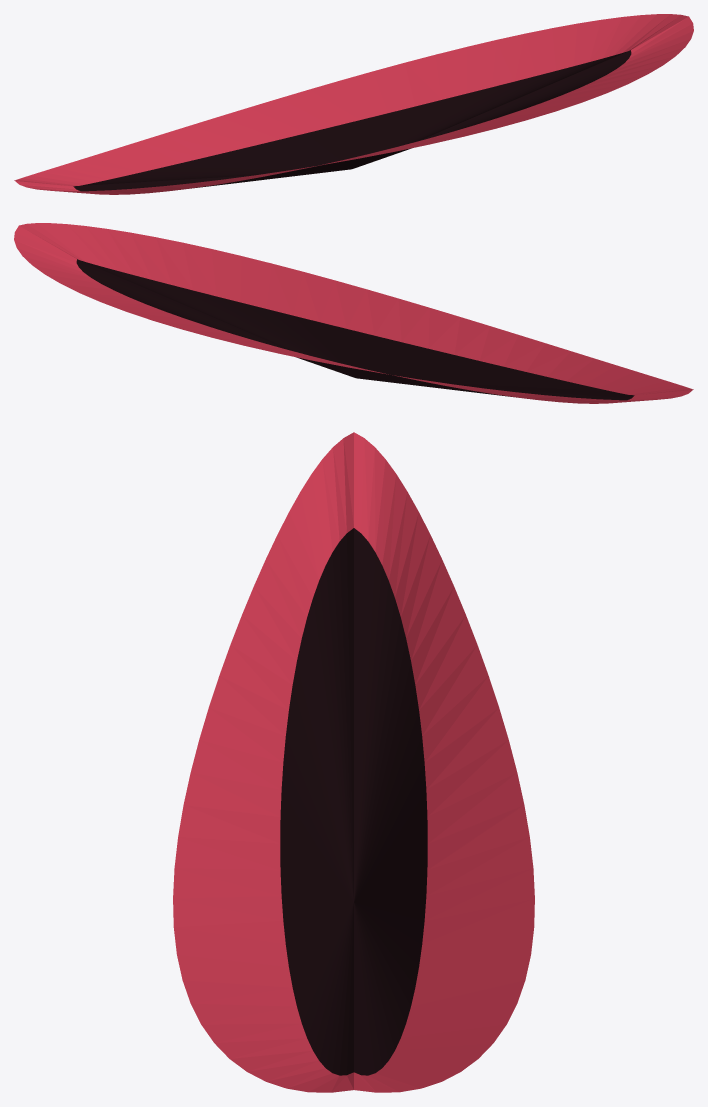
The model's file is viseme-fv.obj.
3 renders of one model, top to bottom at view 1: azimuth 30°, elevation 25°; view 2: azimuth 150°, elevation 25°; view 3: azimuth 270°, elevation 25°, orthographic. The views are drawn at different scales.
Visible parts, largest first — view 1: viseme_fv; view 2: viseme_fv; view 3: viseme_fv.
Boxes of the visible parts, x1,y1,x2,y2 form: viseme_fv: (14, 14, 693, 194); viseme_fv: (14, 223, 693, 403); viseme_fv: (173, 432, 534, 1092).
Bounding box in the file's own units: 0.58 × 0.058 × 0.1349.
